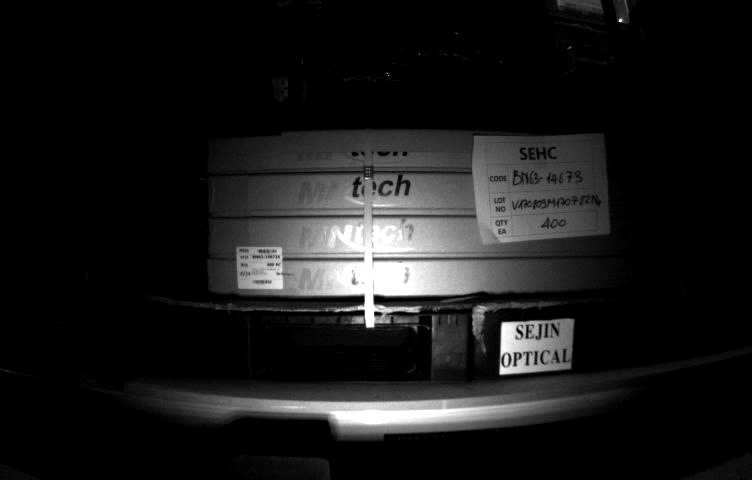True Barcode: (233, 244, 286, 293)
